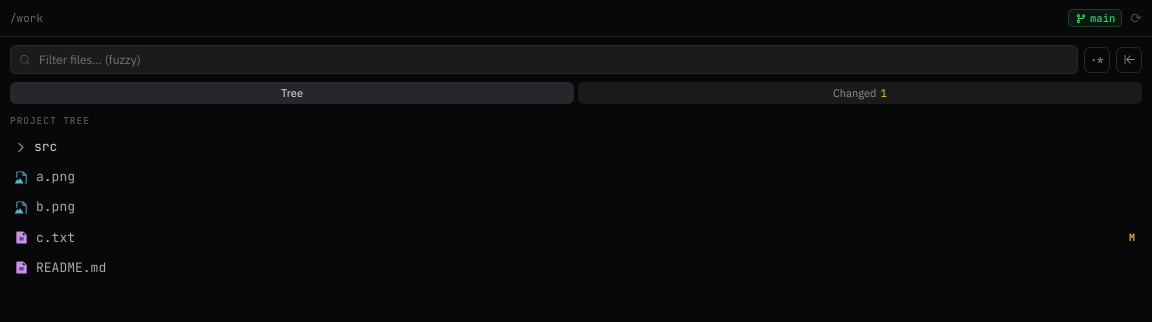
Scenario: drops a collapsed directory's files from the selection
Click the text "src" at (46, 147), box left=34, top=138, right=57, bottom=156
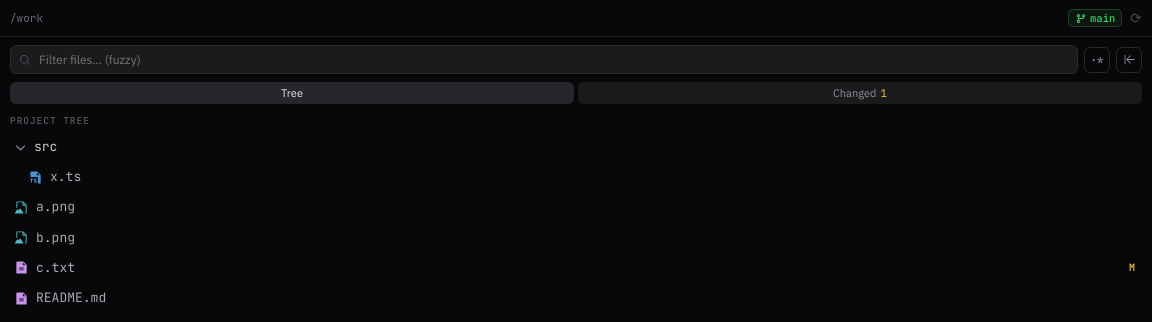
Click the text "x.ts" at (66, 177), box left=50, top=168, right=81, bottom=185
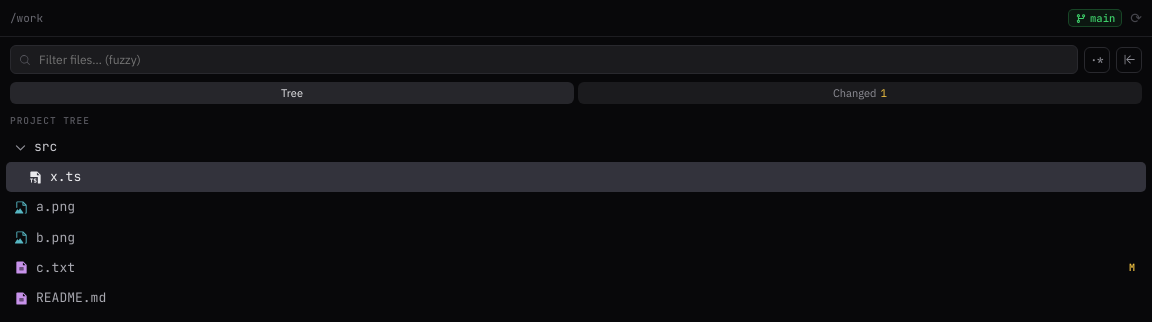
Click the text "src" at (46, 147), box left=34, top=138, right=57, bottom=156
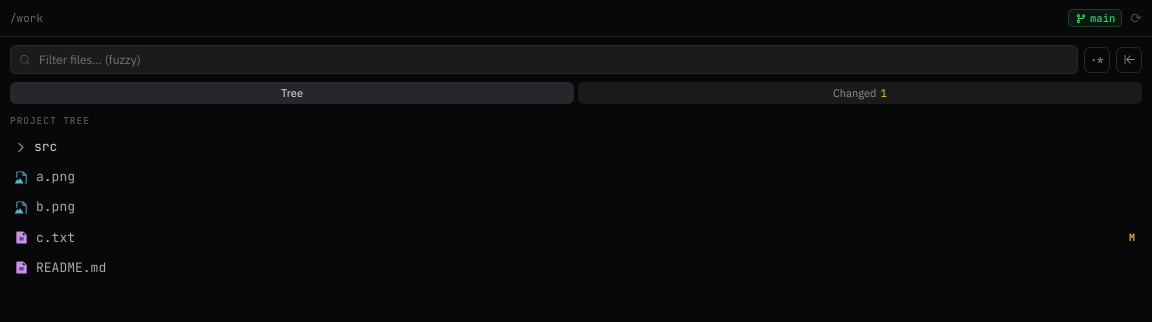
Check: the text "x.ts" is gone
Click the text "a.png" at (56, 177), box left=36, top=168, right=75, bottom=185
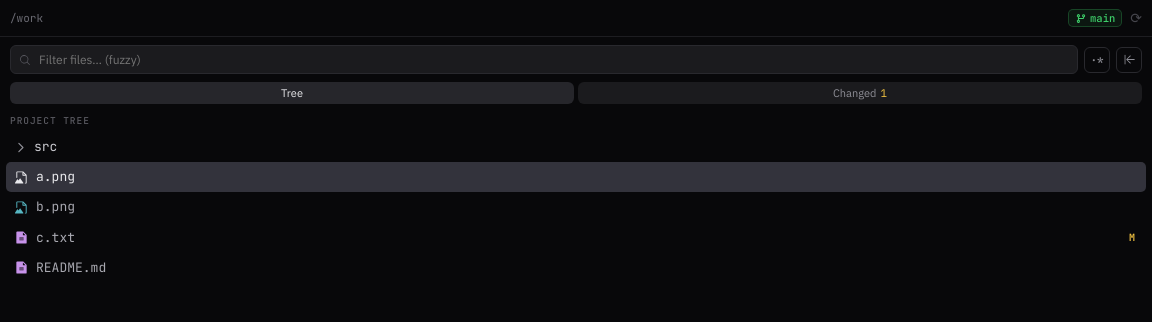
Right-click the text "a.png" at (56, 177), box left=36, top=168, right=75, bottom=185
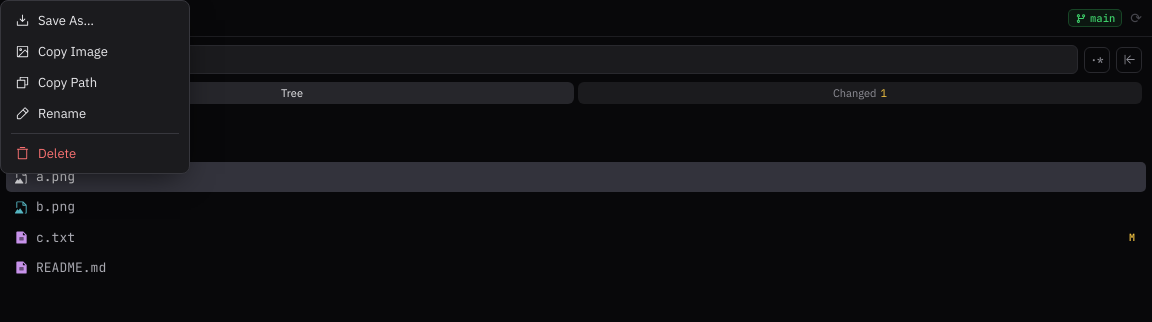
Check: the button "Delete" is shown, box left=5, top=138, right=185, bottom=169
